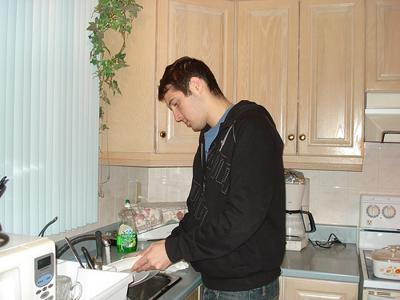person: (129, 54, 286, 299)
